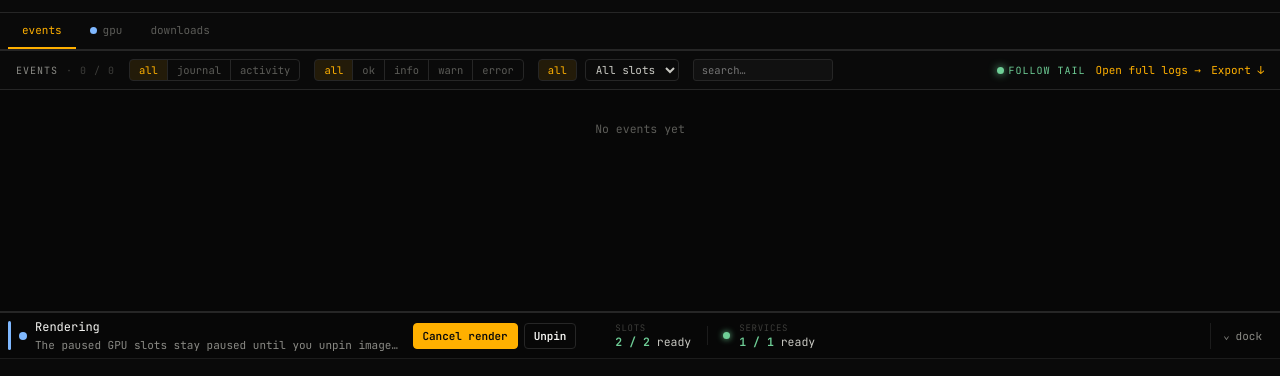
Test: the dock GPU tab › gpu facts read mode, phase, gate and waiting chat
Click the button with test id "dock-tab-gpu" at (106, 31), box [76,13,136,49]
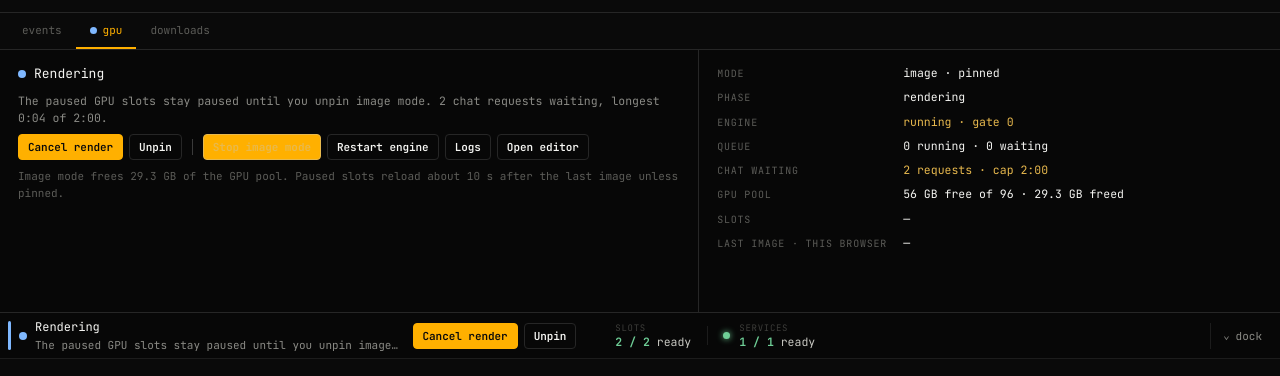
Expected: the text "mode" is shown, [717,67,744,80]
Expected: the text "image · pinned" is shown, [903,65,1000,80]
Expected: the text "phase" is shown, [717,91,751,104]
